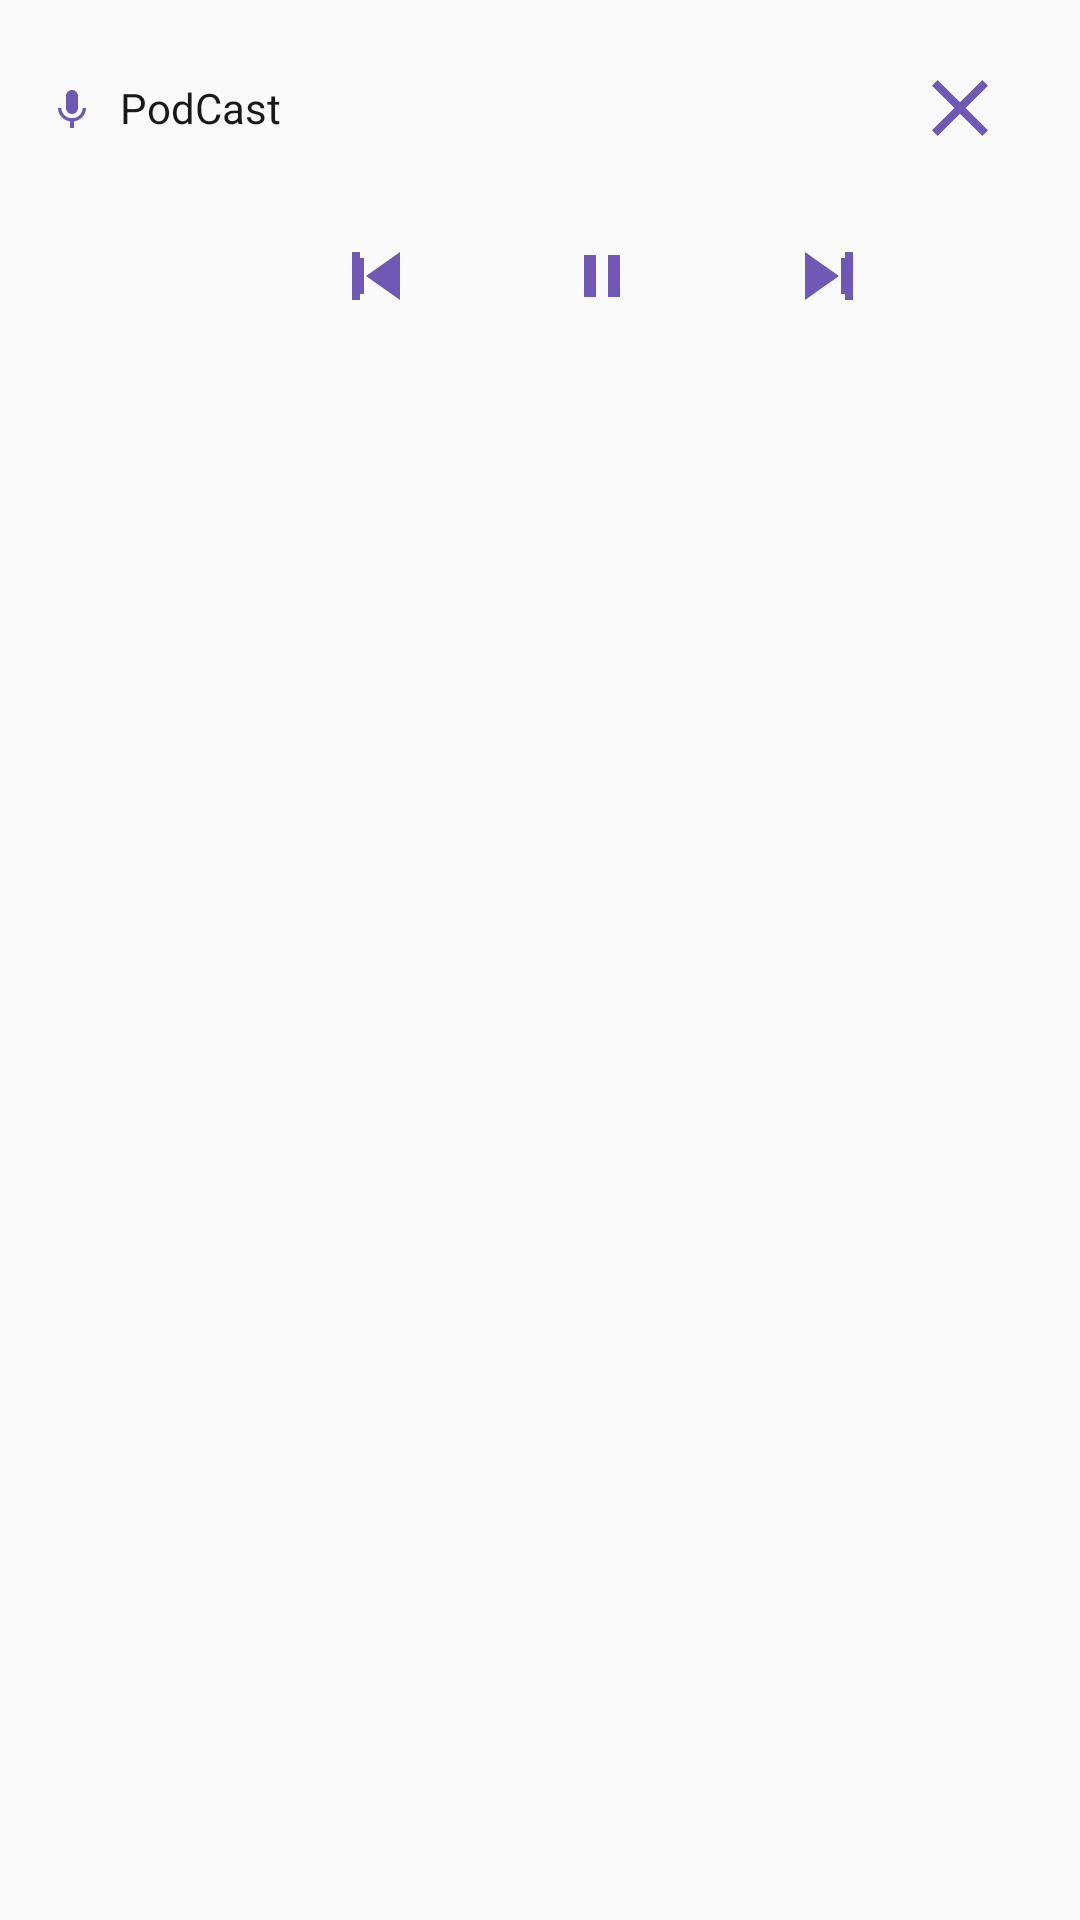

Screen size 1080w x 1920h. Icon name, then its center in pixels as (x,y):
clear: (960,108)
pause: (602,276)
skip next: (829,276)
skip previous: (376,276)
